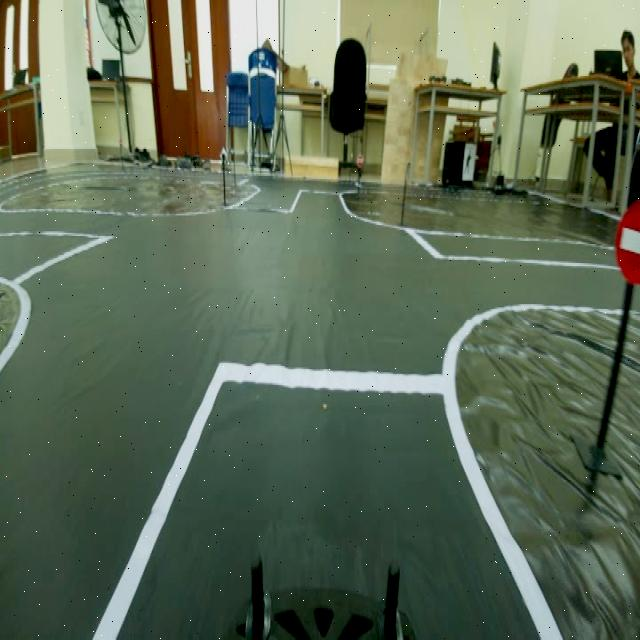no_entry: (609, 194, 640, 284)
